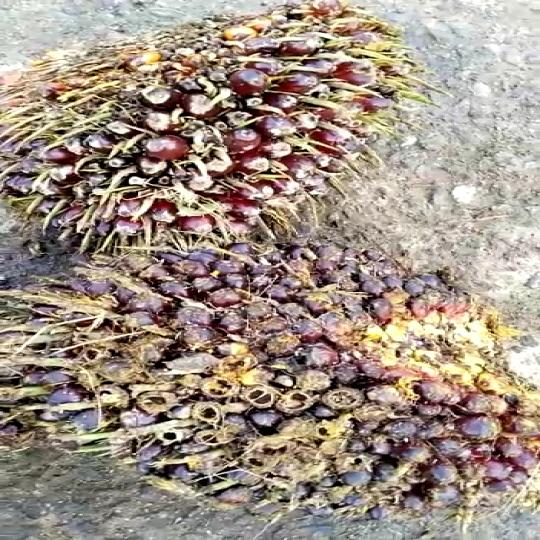kurang masak: (0, 229, 540, 508), (0, 0, 418, 239)
